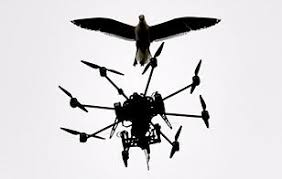Bird: (67, 10, 222, 67)
Drone: (56, 64, 213, 170)
